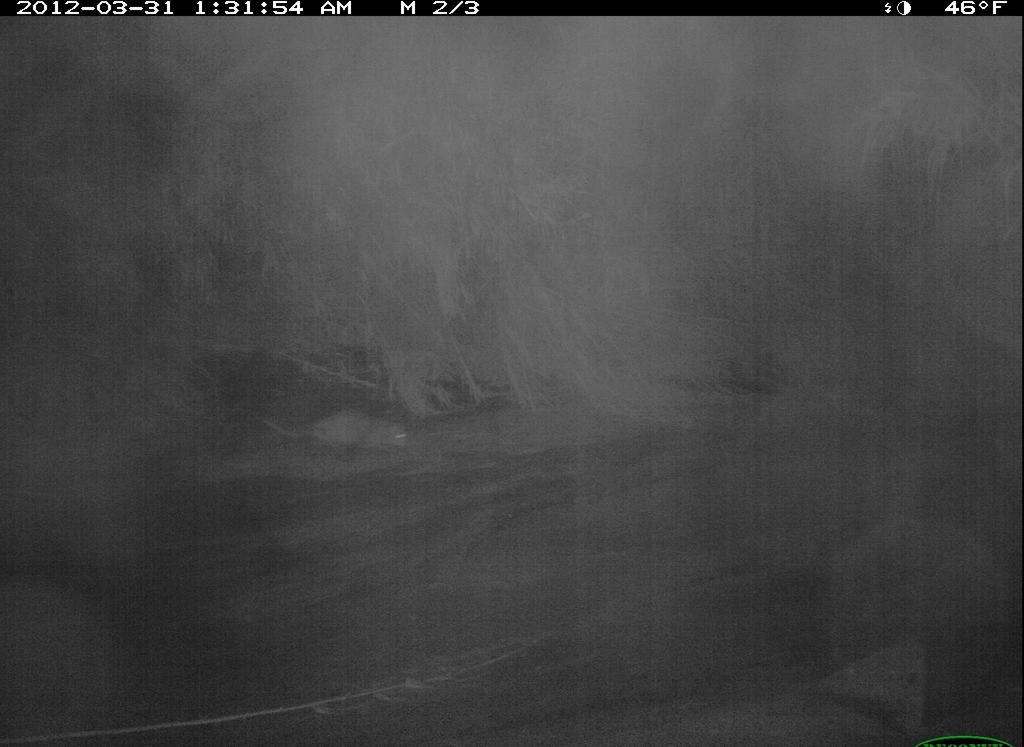opossum: (267, 400, 418, 464)
